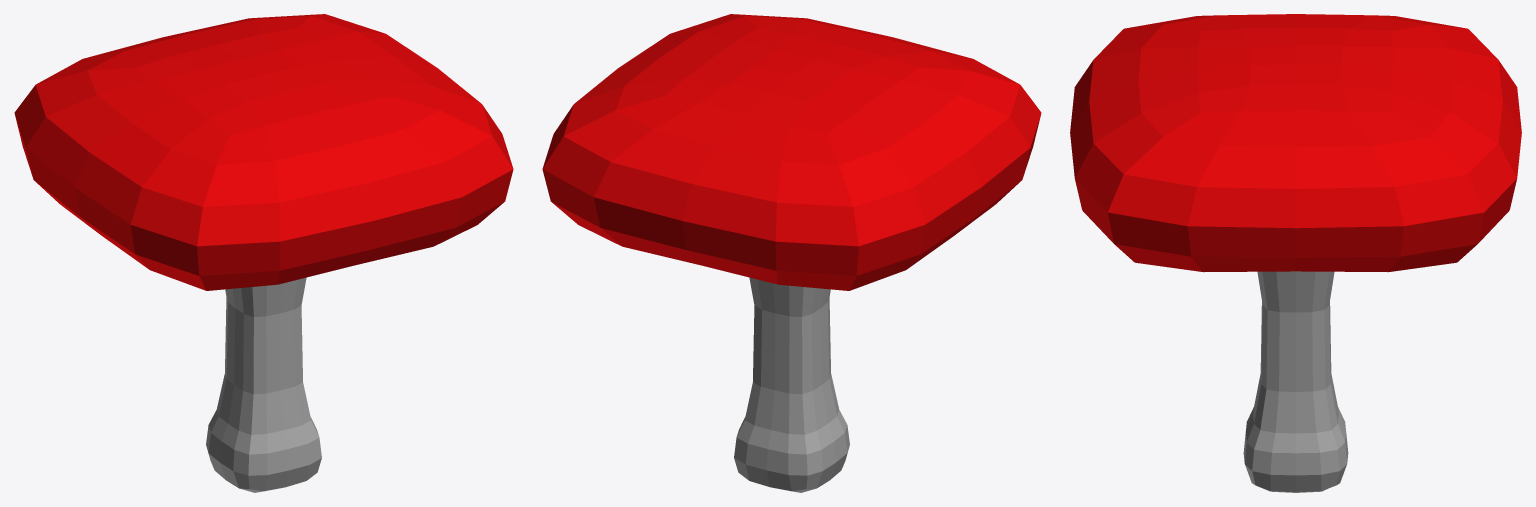
File: mushroom0.glb
The picture shows the model from 3 angles, left to right: view 1: azimuth 30°, elevation 25°; view 2: azimuth 150°, elevation 25°; view 3: azimuth 270°, elevation 25°; orthographic projection. The views are drawn at different scales.
Parts seen in each view (by area): view 1: mushroom0; view 2: mushroom0; view 3: mushroom0.
Part boxes in pixels (x1=…): mushroom0: x1=14, y1=14, x2=513, y2=492; mushroom0: x1=542, y1=14, x2=1041, y2=492; mushroom0: x1=1070, y1=14, x2=1521, y2=492.
Size of the model in its own units: 8.45 by 8.63 by 8.45.
